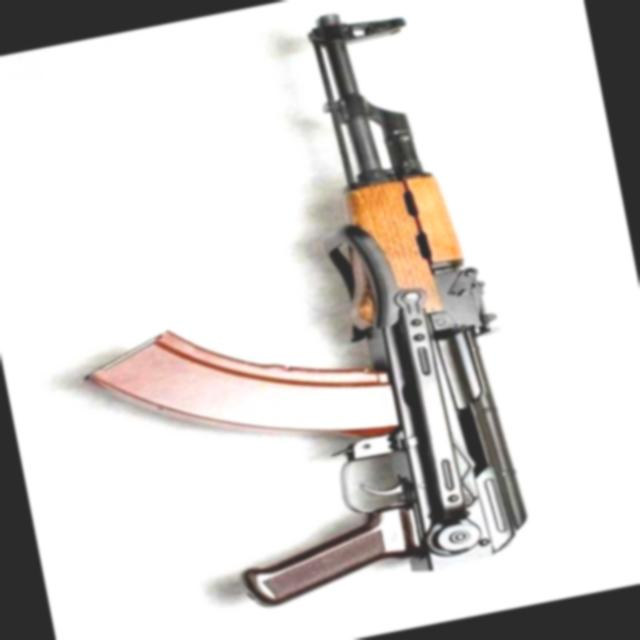ak: (23, 0, 540, 639)
